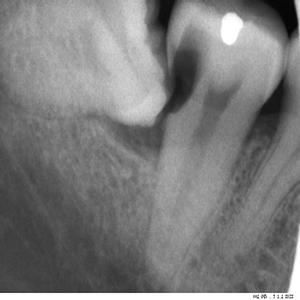tooth: (145, 0, 287, 274)
